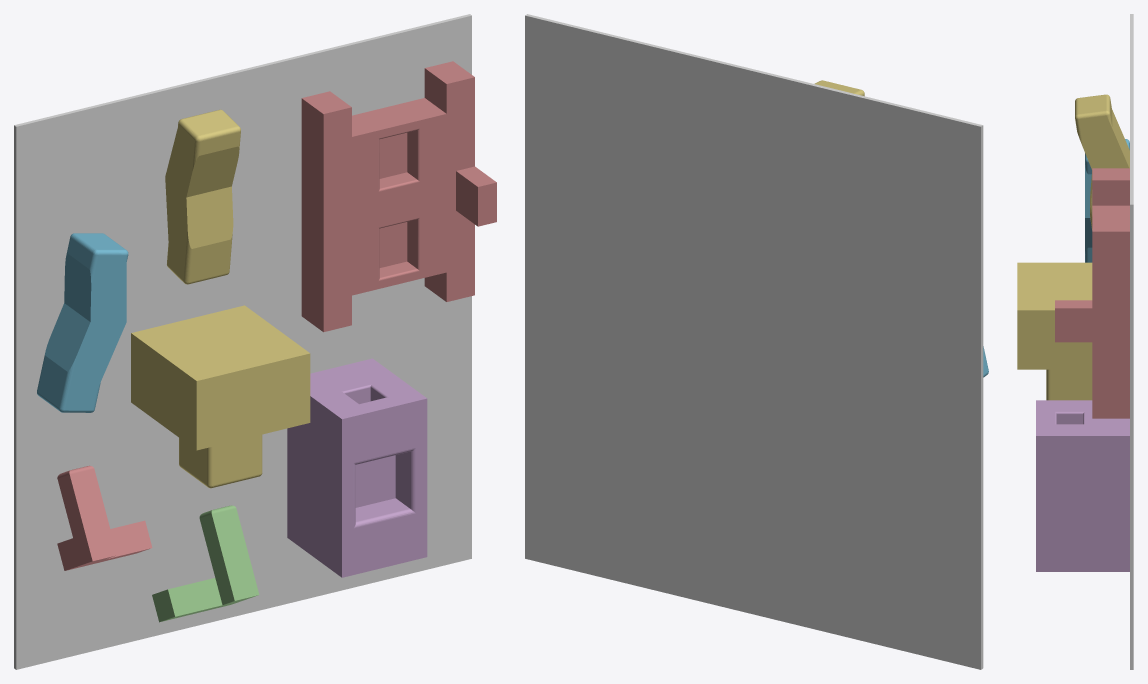
Rendered from pickup_layout.glb.
3 views of the same model, side by side, from view 1: azimuth 30°, elevation 25°; view 2: azimuth 150°, elevation 25°; view 3: azimuth 270°, elevation 25° (orthographic). The views are drawn at different scales.
Visible parts, largest first — view 1: world, 0.obj, 3.obj, 6.obj, 2.obj, 1.obj, 4.obj, 5.obj; view 2: world; view 3: 3.obj, 0.obj, 6.obj, 1.obj, world, 2.obj.
Boxes of the visible parts, box(x1,y1,x2,y2) form: world: box(14, 14, 471, 669); 0.obj: box(301, 61, 496, 332); 3.obj: box(287, 358, 427, 577); 6.obj: box(131, 305, 310, 488); 2.obj: box(37, 233, 128, 412); 1.obj: box(165, 109, 240, 284); 4.obj: box(152, 505, 259, 622); 5.obj: box(57, 465, 152, 570); world: box(525, 14, 983, 669); 3.obj: box(1036, 400, 1129, 571); 0.obj: box(1055, 168, 1129, 418); 6.obj: box(1017, 262, 1092, 400); 1.obj: box(1075, 94, 1129, 229); world: box(1130, 14, 1133, 669); 2.obj: box(1085, 139, 1129, 262).
Bounding box in the file's own units: 24.06 × 27.39 × 6.2.
